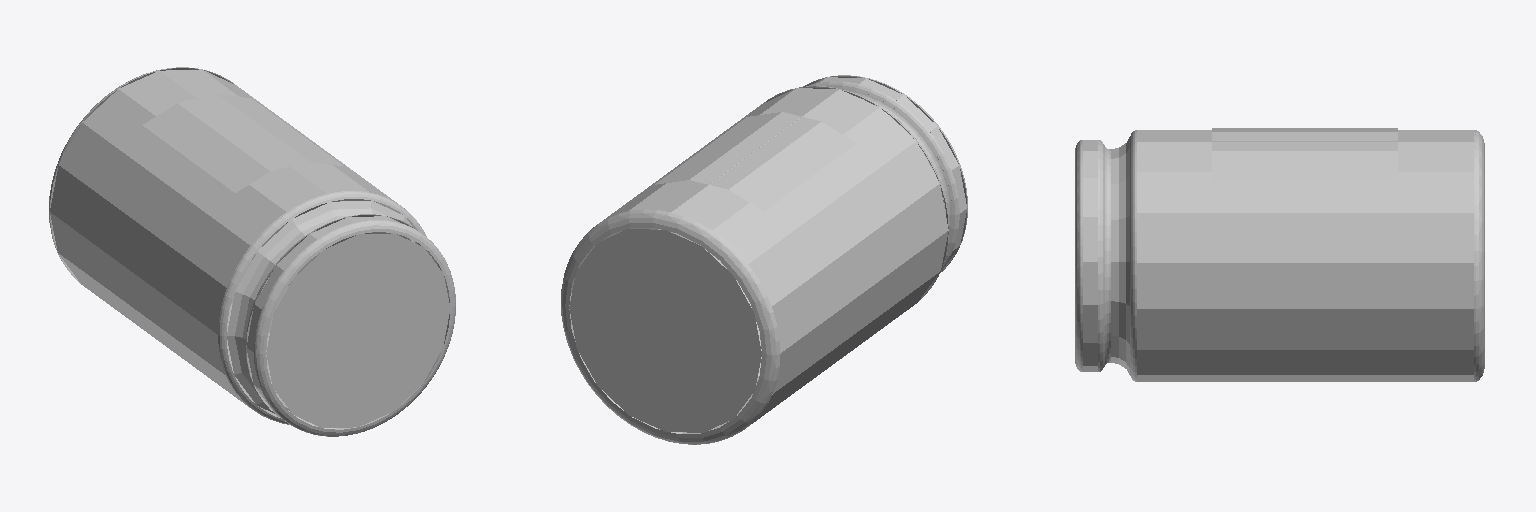
3 renders of one model, left to right at view 1: azimuth 30°, elevation 25°; view 2: azimuth 150°, elevation 25°; view 3: azimuth 270°, elevation 25°, orthographic.
Visible parts, largest first — view 1: ShapeIndexedFaceSet_ShapeIndexedFaceSet.001, ShapeIndexedFaceSet.004_ShapeIndexedFaceSet.005, ShapeIndexedFaceSet.003_ShapeIndexedFaceSet.004, ShapeIndexedFaceSet.005_ShapeIndexedFaceSet, ShapeIndexedFaceSet.001_ShapeIndexedFaceSet.002; view 2: ShapeIndexedFaceSet_ShapeIndexedFaceSet.001, ShapeIndexedFaceSet.002_ShapeIndexedFaceSet.003, ShapeIndexedFaceSet.005_ShapeIndexedFaceSet, ShapeIndexedFaceSet.001_ShapeIndexedFaceSet.002, ShapeIndexedFaceSet.003_ShapeIndexedFaceSet.004; view 3: ShapeIndexedFaceSet_ShapeIndexedFaceSet.001, ShapeIndexedFaceSet.003_ShapeIndexedFaceSet.004, ShapeIndexedFaceSet.005_ShapeIndexedFaceSet, ShapeIndexedFaceSet.001_ShapeIndexedFaceSet.002.
Part boxes in pixels (left/top/right/bottom): ShapeIndexedFaceSet_ShapeIndexedFaceSet.001: left=50, top=69, right=416, bottom=417; ShapeIndexedFaceSet.004_ShapeIndexedFaceSet.005: left=266, top=233, right=449, bottom=427; ShapeIndexedFaceSet.003_ShapeIndexedFaceSet.004: left=218, top=191, right=455, bottom=436; ShapeIndexedFaceSet.005_ShapeIndexedFaceSet: left=143, top=94, right=342, bottom=192; ShapeIndexedFaceSet.001_ShapeIndexedFaceSet.002: left=49, top=67, right=234, bottom=283; ShapeIndexedFaceSet_ShapeIndexedFaceSet.001: left=569, top=88, right=948, bottom=433; ShapeIndexedFaceSet.002_ShapeIndexedFaceSet.003: left=569, top=229, right=761, bottom=432; ShapeIndexedFaceSet.005_ShapeIndexedFaceSet: left=655, top=112, right=856, bottom=211; ShapeIndexedFaceSet.001_ShapeIndexedFaceSet.002: left=561, top=209, right=780, bottom=444; ShapeIndexedFaceSet.003_ShapeIndexedFaceSet.004: left=764, top=75, right=967, bottom=301; ShapeIndexedFaceSet_ShapeIndexedFaceSet.001: left=1137, top=130, right=1473, bottom=381; ShapeIndexedFaceSet.003_ShapeIndexedFaceSet.004: left=1075, top=130, right=1136, bottom=381; ShapeIndexedFaceSet.005_ShapeIndexedFaceSet: left=1212, top=128, right=1397, bottom=181; ShapeIndexedFaceSet.001_ShapeIndexedFaceSet.002: left=1474, top=130, right=1484, bottom=381.
Size of the model in its own units: 4.32 by 4.32 by 7.